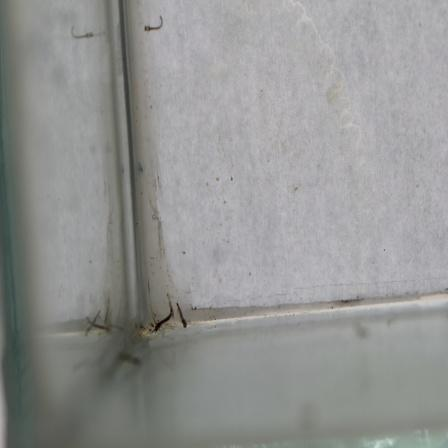Jentik-Nyamuk: (142, 11, 168, 37), (175, 301, 189, 334)
